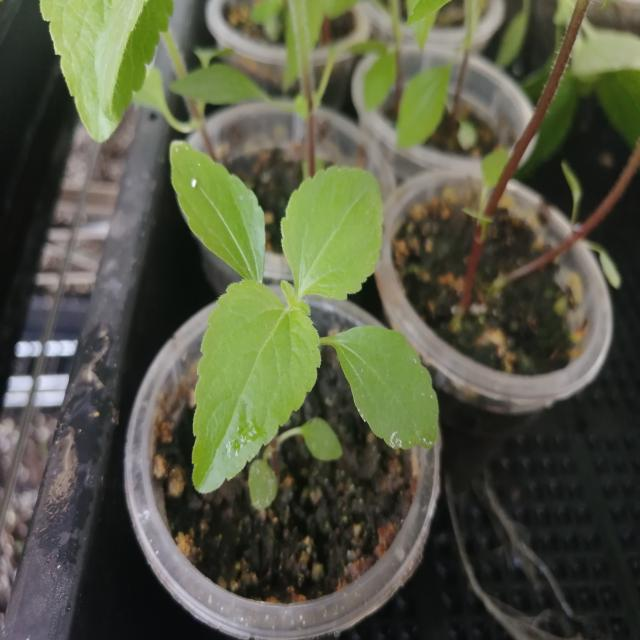billygoat_weed: (130, 136, 436, 476)
